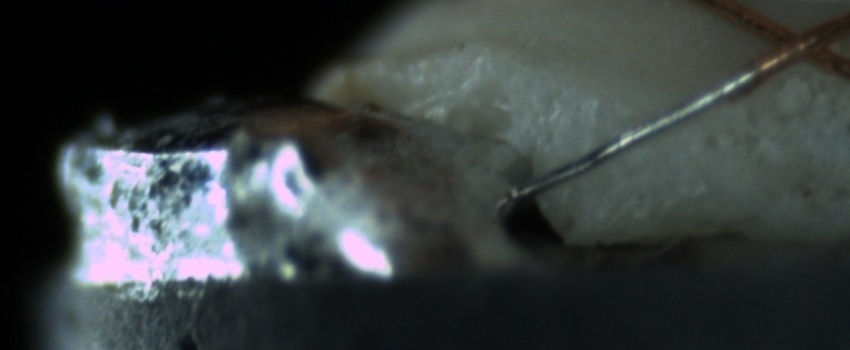CL: (745, 7, 846, 78)
TS: (502, 68, 766, 208)
